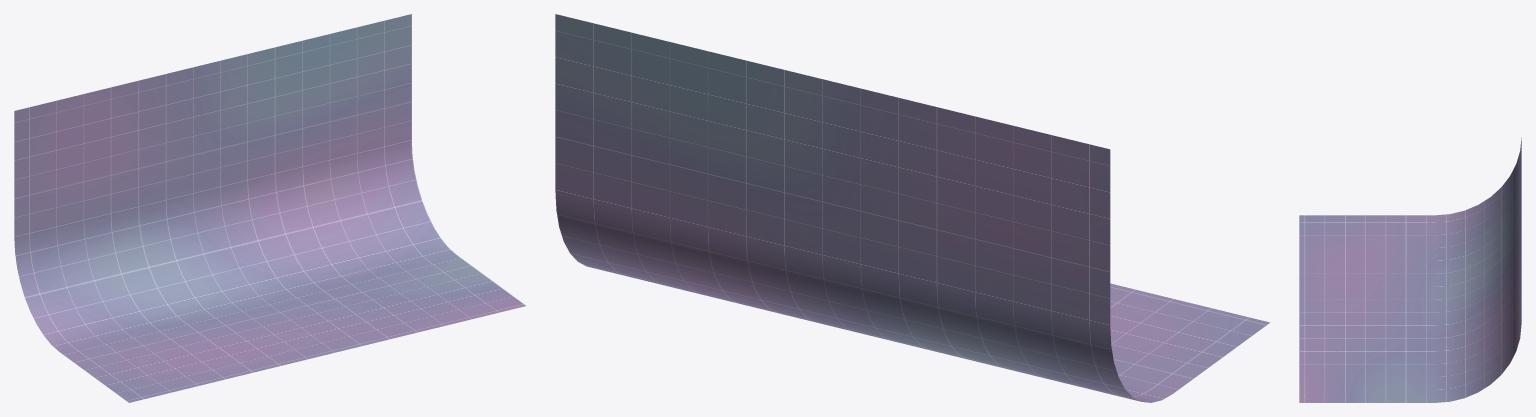
File: BG_customiser.glb
3 views of the same model, side by side, from view 1: azimuth 30°, elevation 25°; view 2: azimuth 150°, elevation 25°; view 3: azimuth 270°, elevation 25° (orthographic). The views are drawn at different scales.
Visible parts, largest first — view 1: Plane.002; view 2: Plane.002; view 3: Plane.002.
Part boxes in pixels (<box>): Plane.002: <box>14,14,525,402</box>; Plane.002: <box>555,14,1270,402</box>; Plane.002: <box>1299,137,1521,402</box>.
Size of the model in its own units: 40 by 20 by 20.
1 material, 1 textured.
